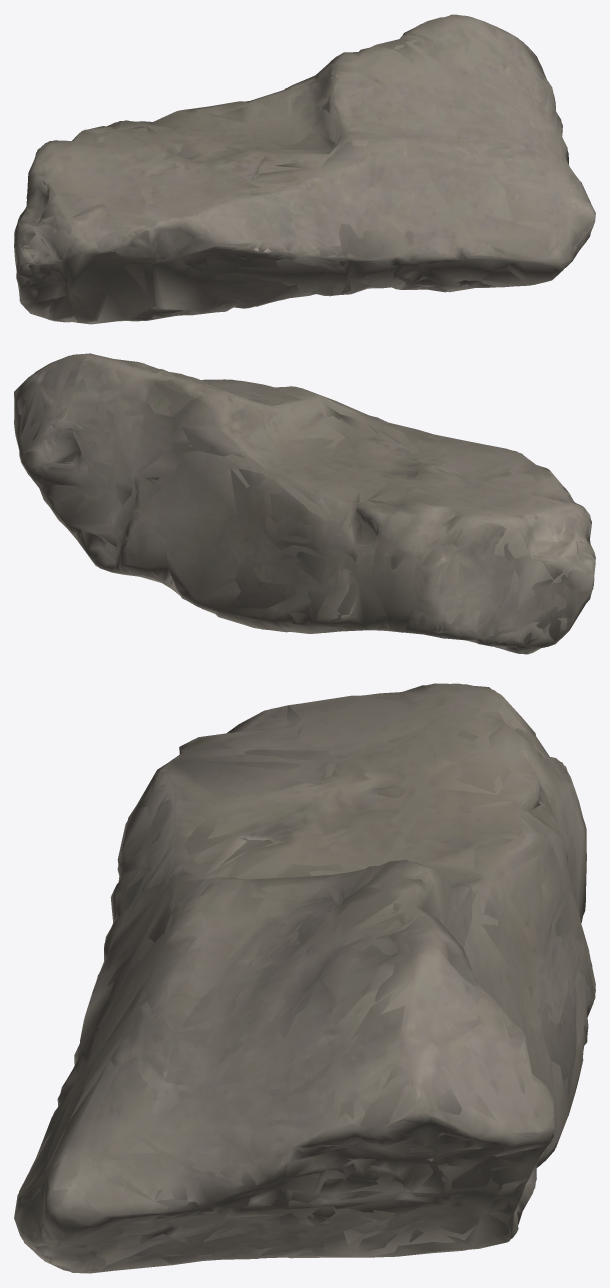
The model's file is moon_rock_01.glb.
The picture shows the model from 3 angles, top to bottom: view 1: azimuth 30°, elevation 25°; view 2: azimuth 150°, elevation 25°; view 3: azimuth 270°, elevation 25°; orthographic projection. The views are drawn at different scales.
Parts seen in each view (by area): view 1: moon_rock_01_LOD0; view 2: moon_rock_01_LOD0; view 3: moon_rock_01_LOD0.
Boxes of the visible parts, x1,y1,x2,y2 form: moon_rock_01_LOD0: [14, 14, 595, 324]; moon_rock_01_LOD0: [14, 353, 595, 654]; moon_rock_01_LOD0: [14, 683, 595, 1273].
Bounding box in the file's own units: 0.2123 × 0.0753 × 0.1117.
1 material, 1 textured.
